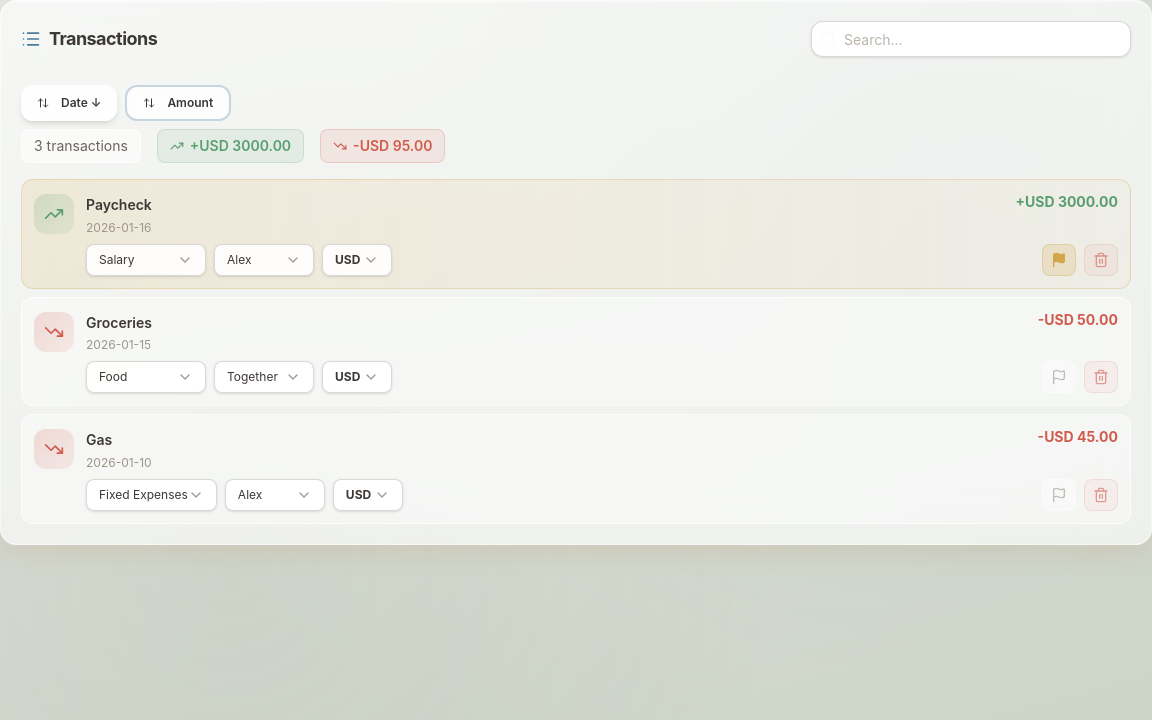
TransactionList › ConfirmDialog interaction › closes confirm dialog when cancel is clicked
Check: the button "Groceries" is shown, box [86,313,152,333]
Click the 1st button named "Delete this transaction": (1101, 260) [1084,244,1118,276]
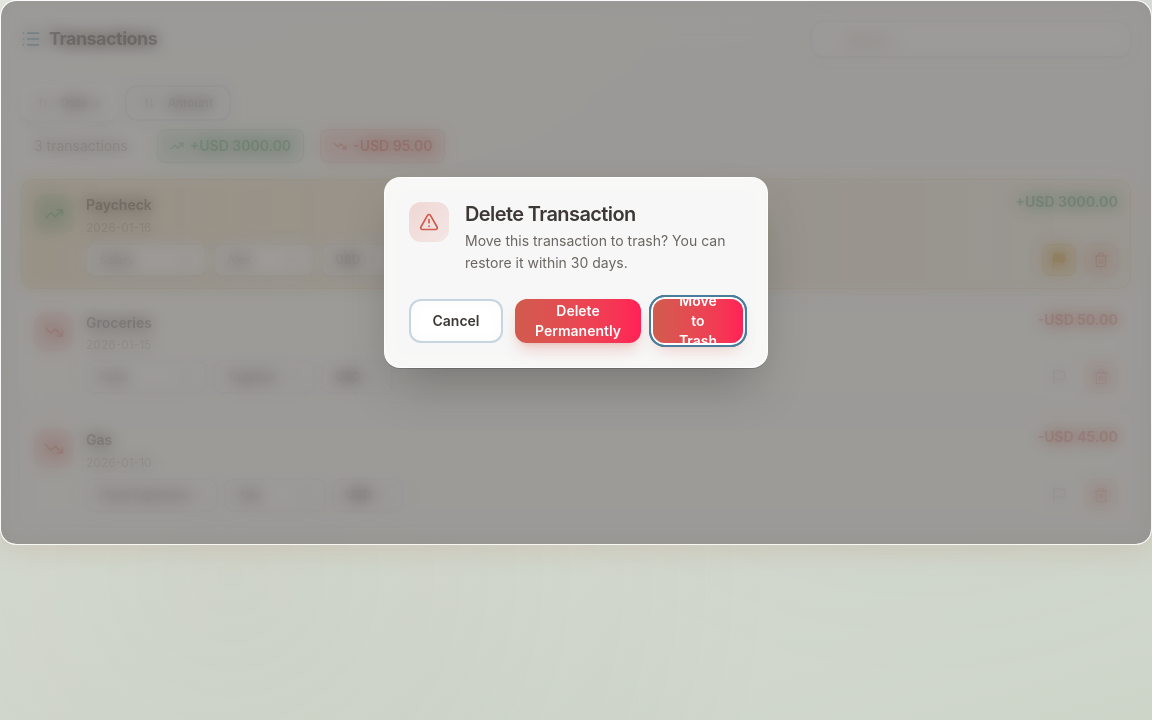
Check: the heading "Delete Transaction" is shown, box [465,202,636,226]
// Click cancel
Click the button "Cancel": (456, 321) [409,299,503,343]
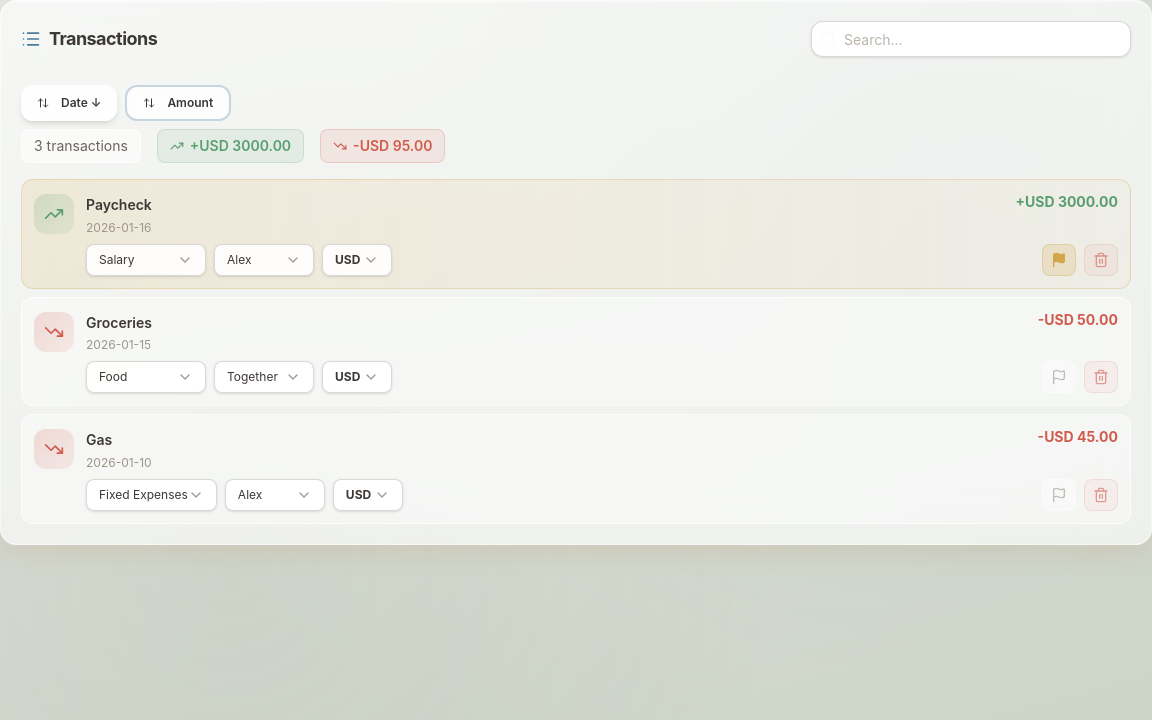
Check: the heading "Delete Transaction" is gone
